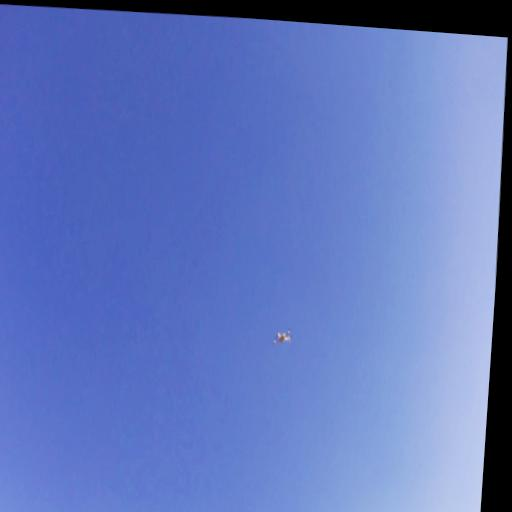drones: (267, 321, 296, 355)
